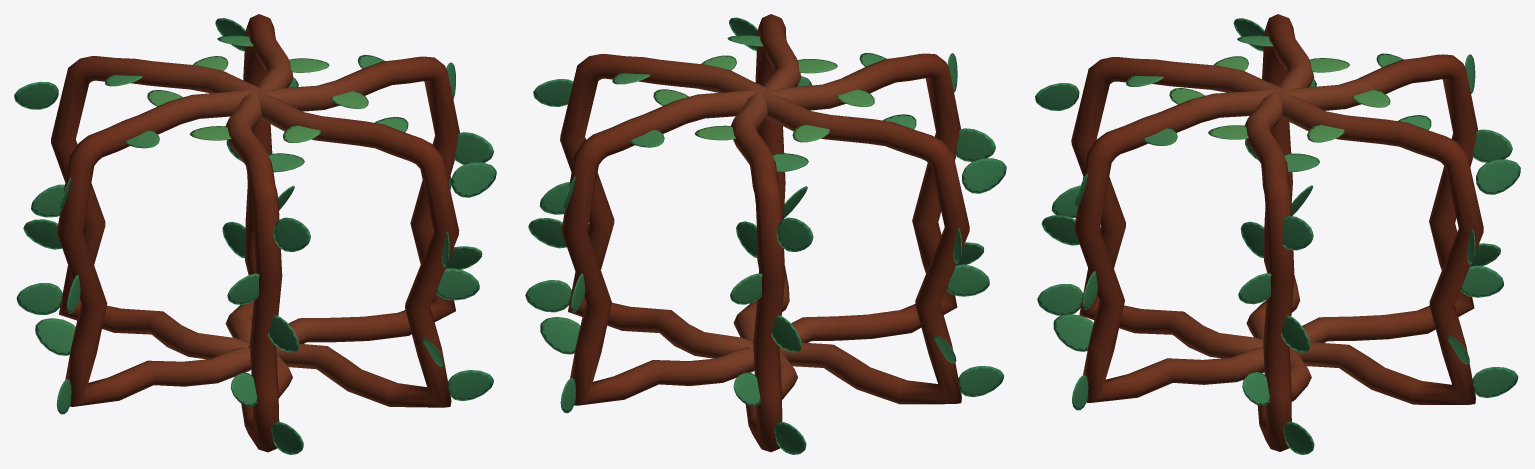
The model's file is 10 Vines.fbx.
3 renders of one model, left to right at view 1: azimuth 30°, elevation 25°; view 2: azimuth 150°, elevation 25°; view 3: azimuth 270°, elevation 25°, orthographic.
Parts seen in each view (by area): view 1: Circle.191; view 2: Circle.191; view 3: Circle.191.
Boxes of the visible parts, x1,y1,x2,y2 form: Circle.191: [14, 14, 496, 454]; Circle.191: [525, 14, 1006, 454]; Circle.191: [1035, 14, 1520, 454].
Bounding box in the file's own units: 31 × 18.62 × 29.53.
Materials: 1 (1 with a texture image).
